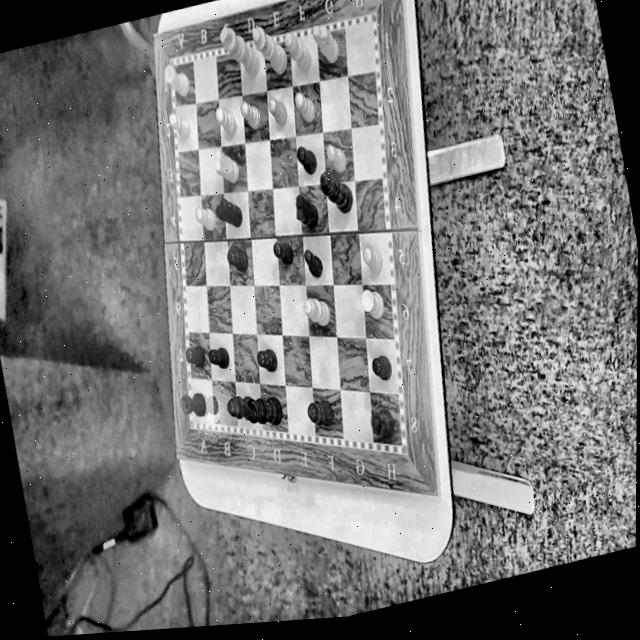chessboard: (172, 19, 399, 443)
